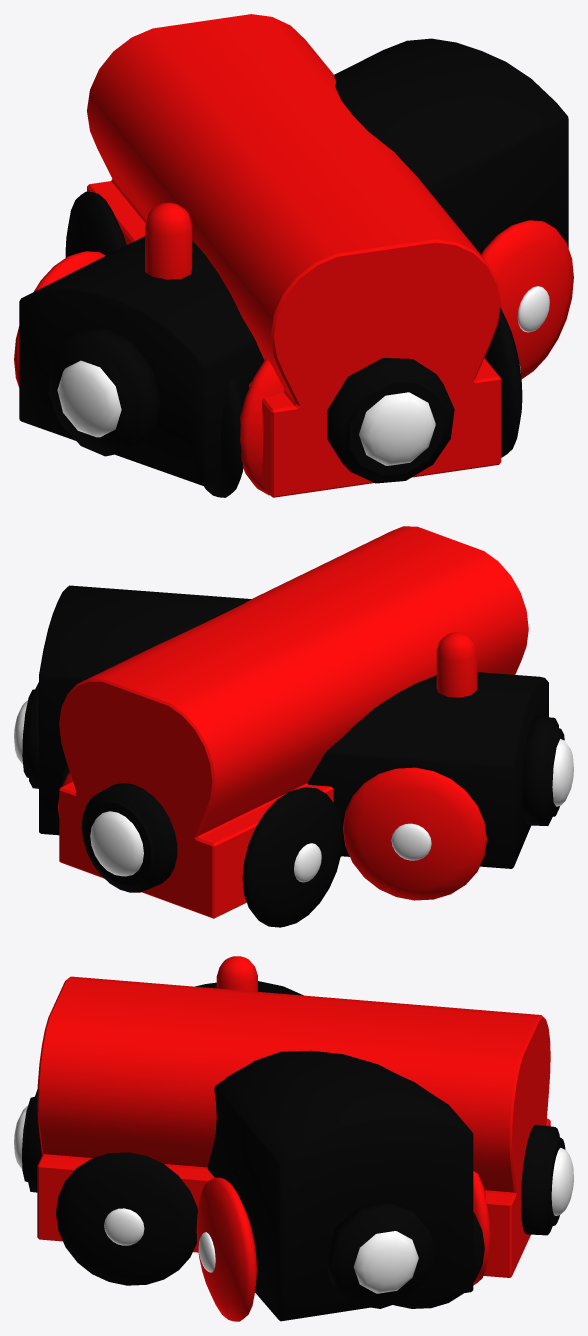
The model's file is huoche.FBX.
3 views of the same model, one above another, from view 1: azimuth 30°, elevation 25°; view 2: azimuth 150°, elevation 25°; view 3: azimuth 270°, elevation 25° (orthographic). The views are drawn at different scales.
Visible parts, largest first — view 1: arch40_092_44, Object001; view 2: arch40_092_44, Object001; view 3: arch40_092_44, Object001.
Boxes of the visible parts, box(x1,y1,x2,y2) form: arch40_092_44: box(65, 14, 522, 497); Object001: box(14, 38, 573, 495); arch40_092_44: box(55, 526, 528, 927); Object001: box(14, 585, 573, 900); arch40_092_44: box(14, 976, 573, 1308); Object001: box(195, 956, 490, 1321).
Bounding box in the file's own units: 7.85 × 3.65 × 8.11.
